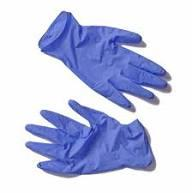Glove: (39, 12, 166, 107), (26, 100, 153, 174)
